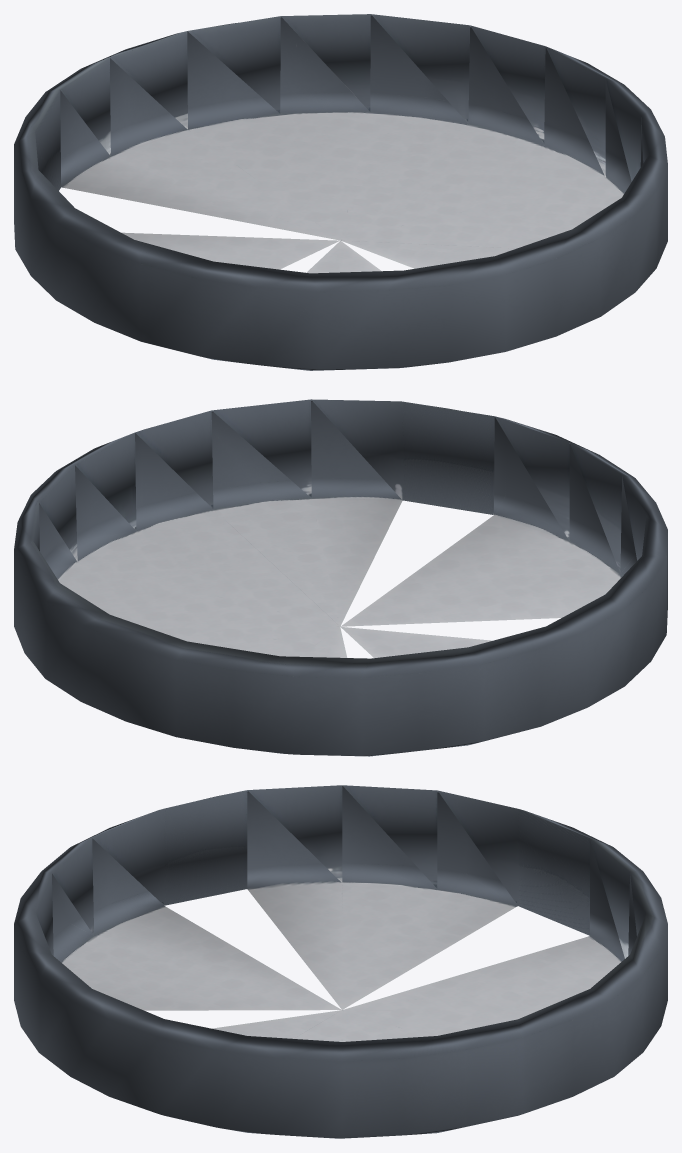
The model's file is ceiling_lamp.glb.
The picture shows the model from 3 angles, top to bottom: view 1: azimuth 30°, elevation 25°; view 2: azimuth 150°, elevation 25°; view 3: azimuth 270°, elevation 25°; orthographic projection.
Size of the model in its own units: 0.9478 by 0.1577 by 0.9517.
1 material, 1 textured.
